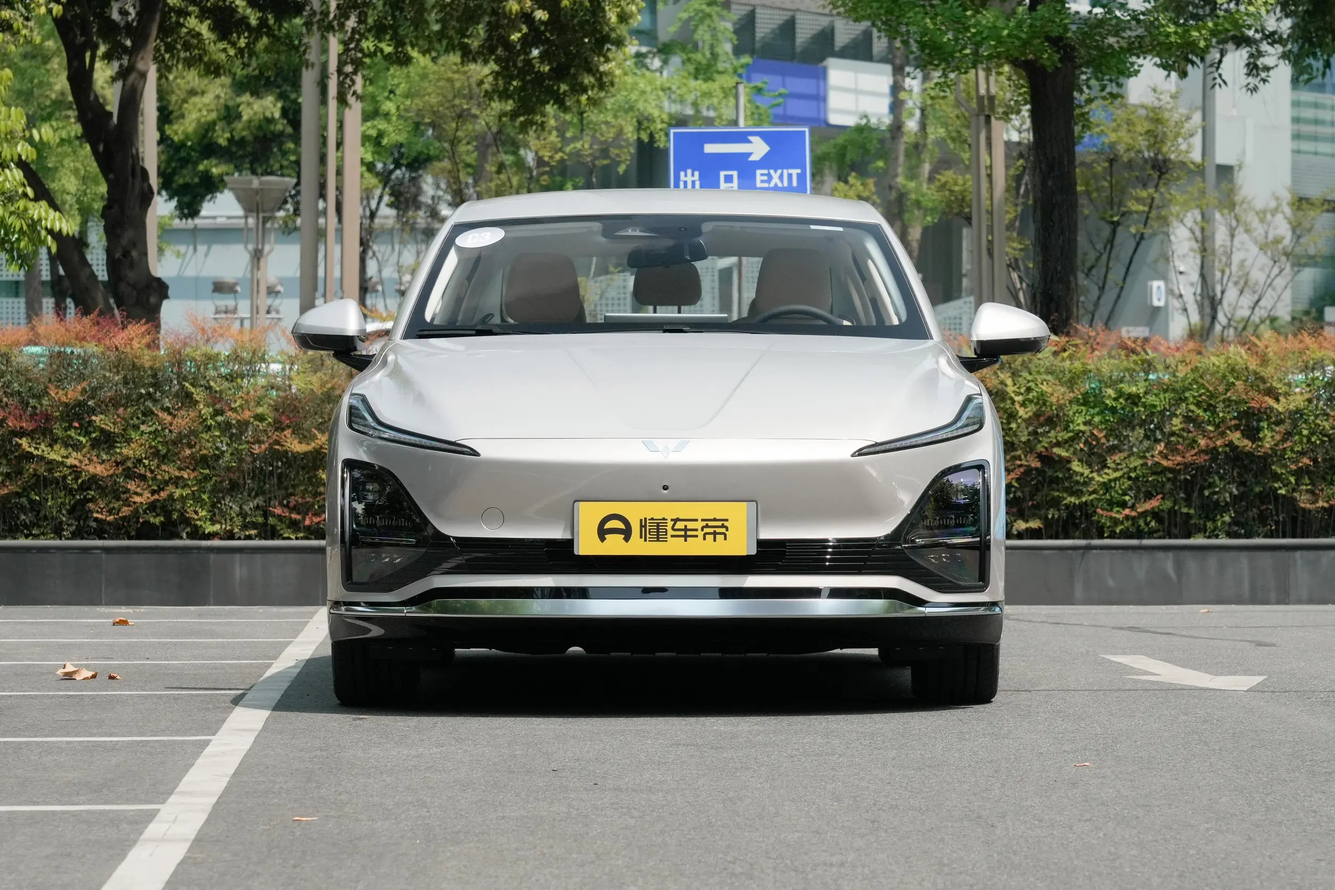SGMW: (642, 440, 689, 457)
